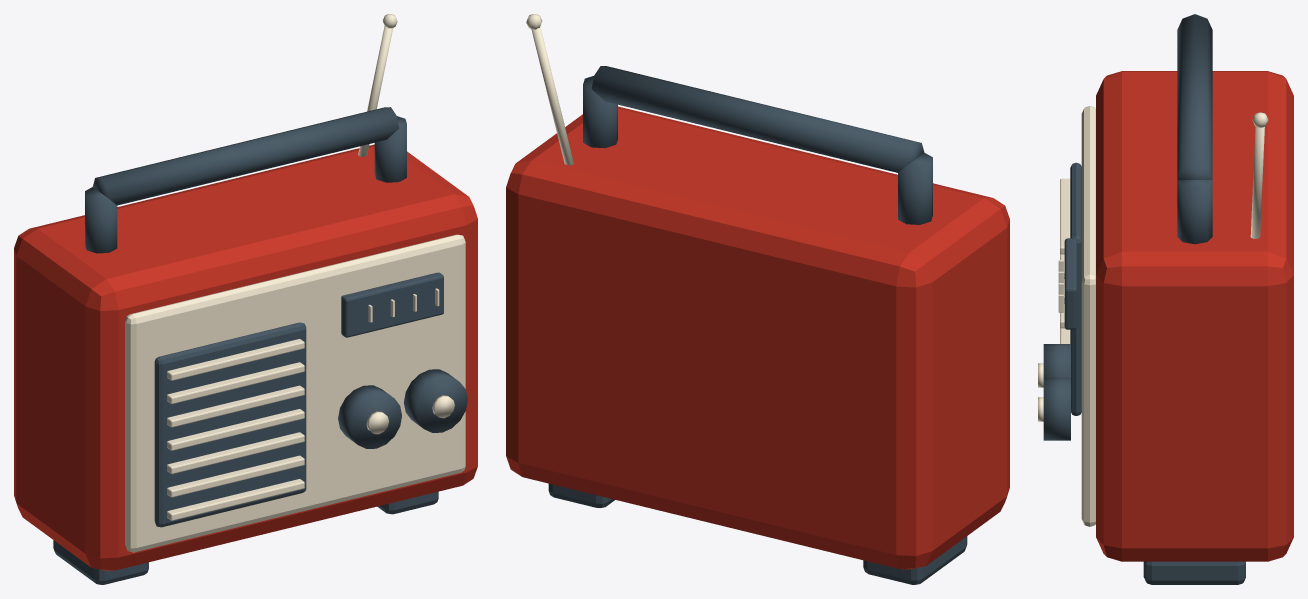
File: radio.fbx
The picture shows the model from 3 angles, left to right: view 1: azimuth 30°, elevation 25°; view 2: azimuth 150°, elevation 25°; view 3: azimuth 270°, elevation 25°; orthographic projection. The views are drawn at different scales.
Visible parts, largest first — view 1: Radio_Case, Radio_FrontInset, Radio_SpeakerInset, Radio_HandleGrip, Radio_FrequencyWindow, Radio_Knob, Radio_Knob.001, Radio_HandlePost, Radio_HandlePost.001, Radio_SpeakerBar.001, Radio_SpeakerBar.004, Radio_SpeakerBar.002 (+7 smaller); view 2: Radio_Case, Radio_HandleGrip, Radio_HandlePost, Radio_HandlePost.001, Radio_Foot, Radio_Antenna, Radio_Foot.001; view 3: Radio_Case, Radio_FrontInset, Radio_HandleGrip, Radio_Foot.001, Radio_SpeakerInset, Radio_HandlePost.001, Radio_Knob.001, Radio_FrequencyWindow, Radio_Antenna, Radio_Knob, Radio_SpeakerBar.006.
Part boxes in pixels (left/top/right/bottom): Radio_Case: left=14, top=144, right=477, bottom=570; Radio_FrontInset: left=125, top=234, right=465, bottom=552; Radio_SpeakerInset: left=154, top=322, right=306, bottom=527; Radio_HandleGrip: left=92, top=107, right=399, bottom=205; Radio_FrequencyWindow: left=341, top=272, right=443, bottom=337; Radio_Knob: left=338, top=385, right=401, bottom=448; Radio_Knob.001: left=404, top=369, right=467, bottom=432; Radio_HandlePost: left=85, top=187, right=117, bottom=253; Radio_HandlePost.001: left=374, top=116, right=406, bottom=182; Radio_SpeakerBar.001: left=167, top=455, right=304, bottom=497; Radio_SpeakerBar.004: left=167, top=385, right=304, bottom=427; Radio_SpeakerBar.002: left=167, top=432, right=304, bottom=473; Radio_Case: left=506, top=106, right=1009, bottom=569; Radio_HandleGrip: left=591, top=66, right=924, bottom=172; Radio_HandlePost: left=898, top=153, right=932, bottom=224; Radio_HandlePost.001: left=583, top=76, right=617, bottom=148; Radio_Foot: left=863, top=536, right=967, bottom=584; Radio_Antenna: left=531, top=27, right=573, bottom=165; Radio_Foot.001: left=548, top=483, right=614, bottom=507; Radio_Case: left=1096, top=71, right=1293, bottom=561; Radio_FrontInset: left=1081, top=106, right=1095, bottom=526; Radio_HandleGrip: left=1177, top=14, right=1212, bottom=179; Radio_Foot.001: left=1143, top=561, right=1245, bottom=584; Radio_SpeakerInset: left=1070, top=162, right=1081, bottom=415; Radio_HandlePost.001: left=1177, top=180, right=1212, bottom=244; Radio_Knob.001: left=1043, top=378, right=1070, bottom=440; Radio_FrequencyWindow: left=1064, top=238, right=1076, bottom=329; Radio_Antenna: left=1250, top=126, right=1264, bottom=238; Radio_Knob: left=1043, top=344, right=1070, bottom=377; Radio_SpeakerBar.006: left=1060, top=178, right=1070, bottom=254.
Bounding box in the file's own units: 0.35 × 0.386 × 0.1875.
